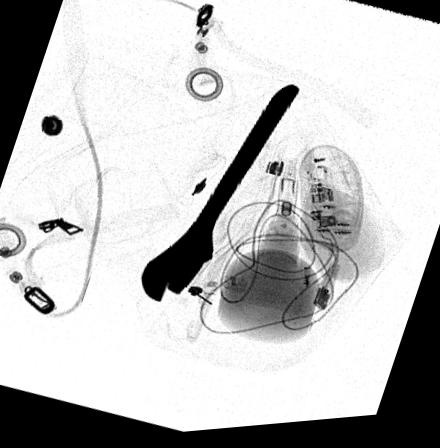Wrench: (140, 90, 302, 308)
